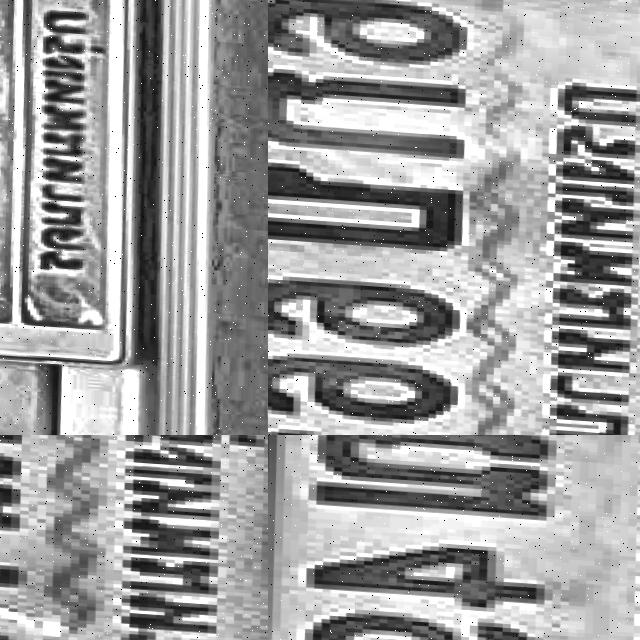license-plate: (268, 0, 640, 435), (268, 435, 640, 640), (0, 0, 180, 387), (0, 435, 268, 640)
